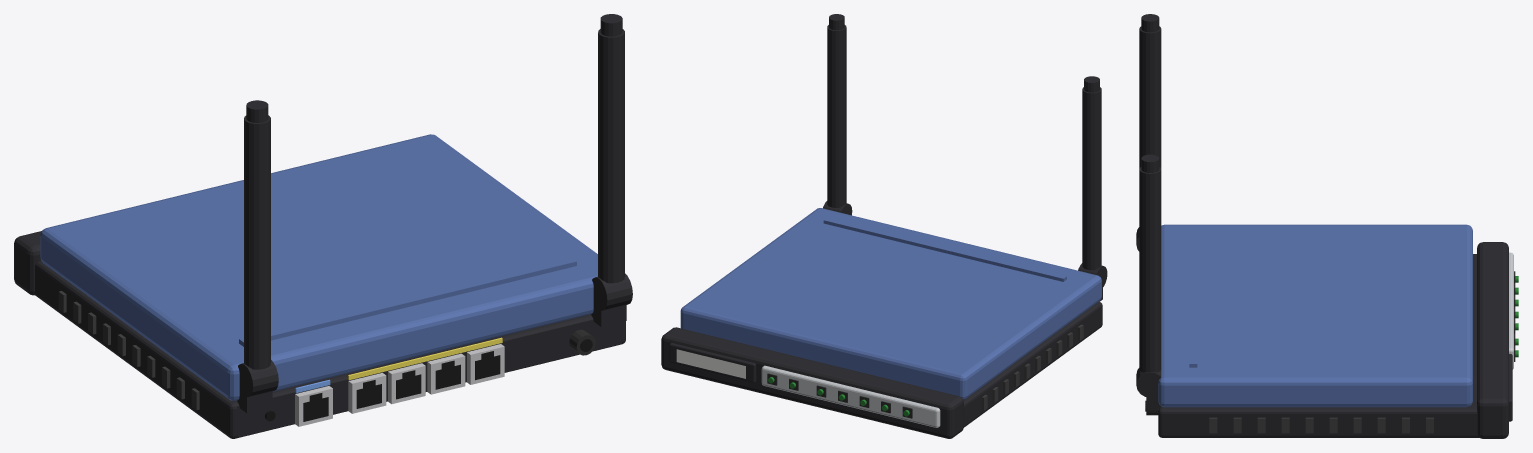
The model's file is router_wr54.glb.
The picture shows the model from 3 angles, left to right: view 1: azimuth 30°, elevation 25°; view 2: azimuth 150°, elevation 25°; view 3: azimuth 270°, elevation 25°; orthographic projection. The views are drawn at different scales.
Parts seen in each view (by area): view 1: side_panel, body, antenna_r, antenna_l; view 2: side_panel, body, antenna_r, antenna_l, badge_front; view 3: side_panel, body, antenna_l, antenna_r.
Boxes of the visible parts, <box> form: side_panel: <box>40,134,597,400</box>; body: <box>14,231,626,438</box>; antenna_r: <box>238,100,278,397</box>; antenna_l: <box>592,14,632,310</box>; side_panel: <box>680,208,1101,399</box>; body: <box>661,288,1102,438</box>; antenna_r: <box>1078,76,1107,287</box>; antenna_l: <box>823,14,852,215</box>; badge_front: <box>676,349,745,378</box>; side_panel: <box>1158,224,1472,407</box>; body: <box>1145,242,1515,438</box>; antenna_l: <box>1136,154,1161,397</box>; antenna_r: <box>1136,14,1161,251</box>.
Bounding box in the file's own units: 0.19 × 0.154 × 0.1908.
